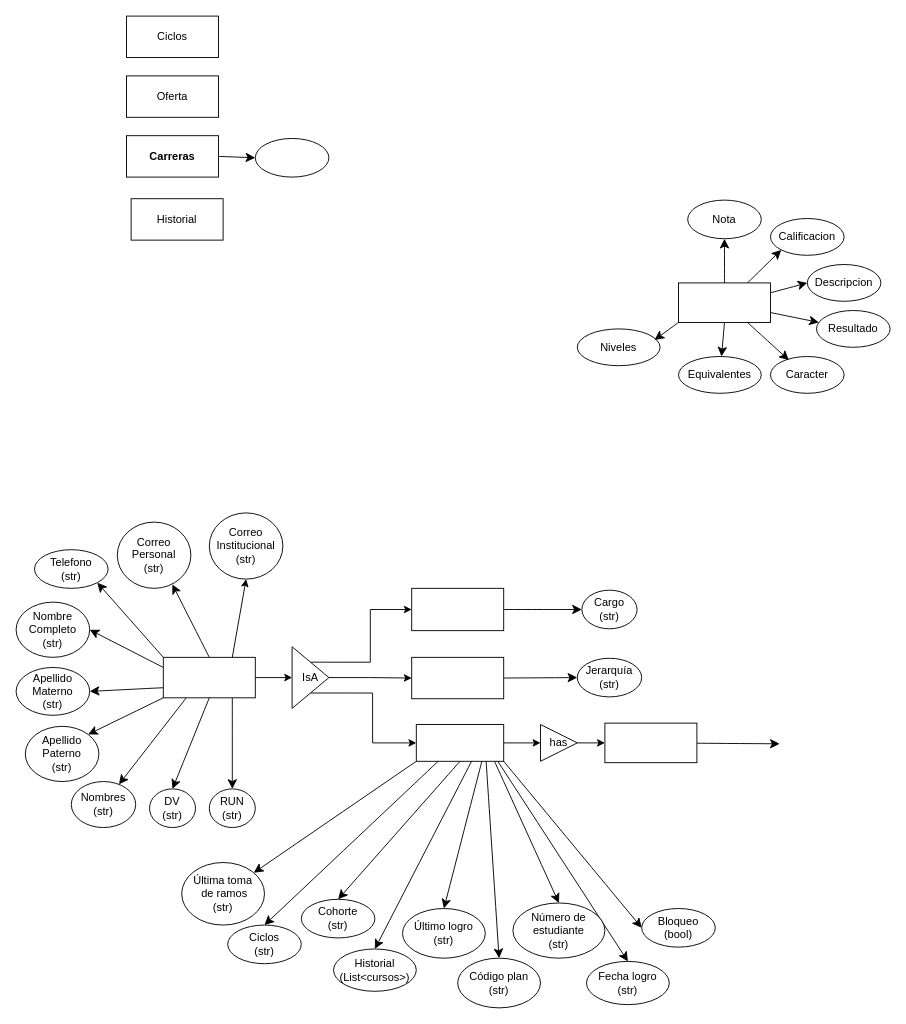
This 906x1024 diagram has some shape labels left out. The centre of each missing label's shape, as x and y in pixels:
Administrativo: point 457,609
cursos: point 724,302
Estudiante: point 459,742
Nombres: point 291,157
Persona: point 208,677
Planes: point 650,742
Profesor: point 457,677
